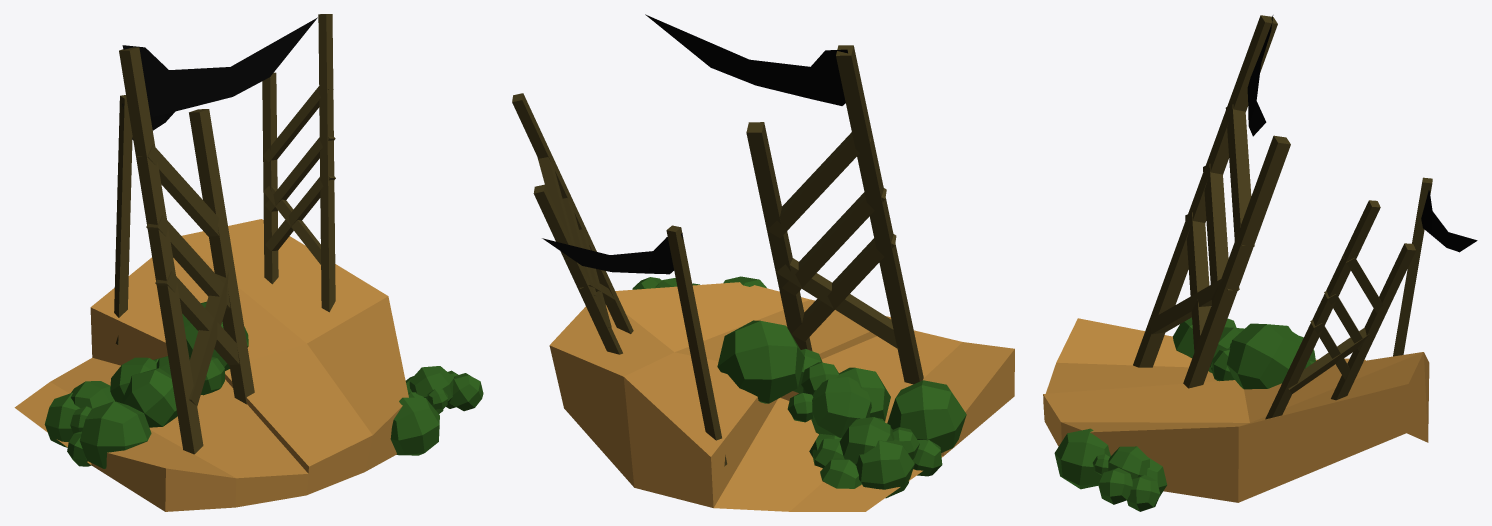
File: Obstaculo4.fbx
The picture shows the model from 3 angles, left to right: view 1: azimuth 30°, elevation 25°; view 2: azimuth 150°, elevation 25°; view 3: azimuth 270°, elevation 25°; orthographic projection. The views are drawn at different scales.
Parts seen in each view (by area): view 1: Obstaculo4; view 2: Obstaculo4; view 3: Obstaculo4.
Part boxes in pixels (left/top/right/bottom): Obstaculo4: left=14, top=14, right=483, bottom=511; Obstaculo4: left=512, top=14, right=1014, bottom=511; Obstaculo4: left=1043, top=15, right=1477, bottom=511.
Size of the model in its own units: 1454 by 1594 by 1593.
